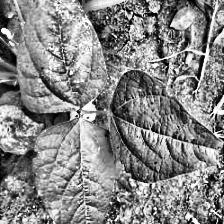ALS: (104, 76, 224, 176), (19, 0, 105, 111), (35, 118, 121, 224), (0, 108, 49, 151)
